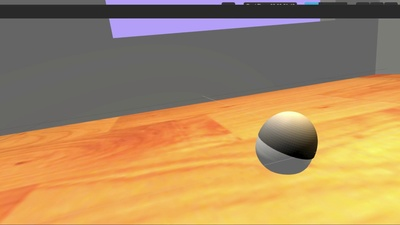mira_robot: (255, 110, 318, 175)
